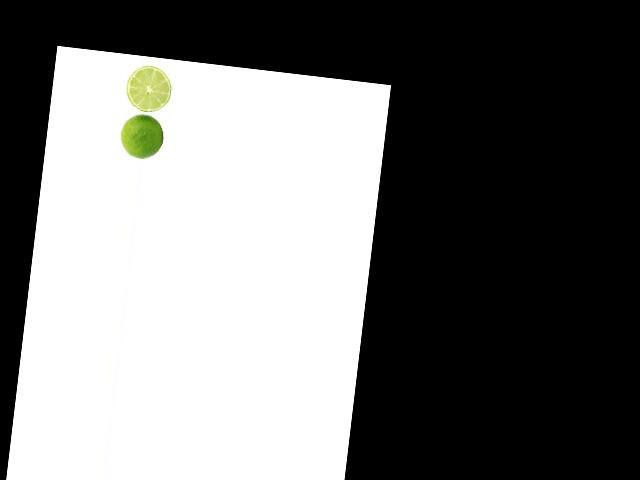lemon: (119, 112, 168, 160)
